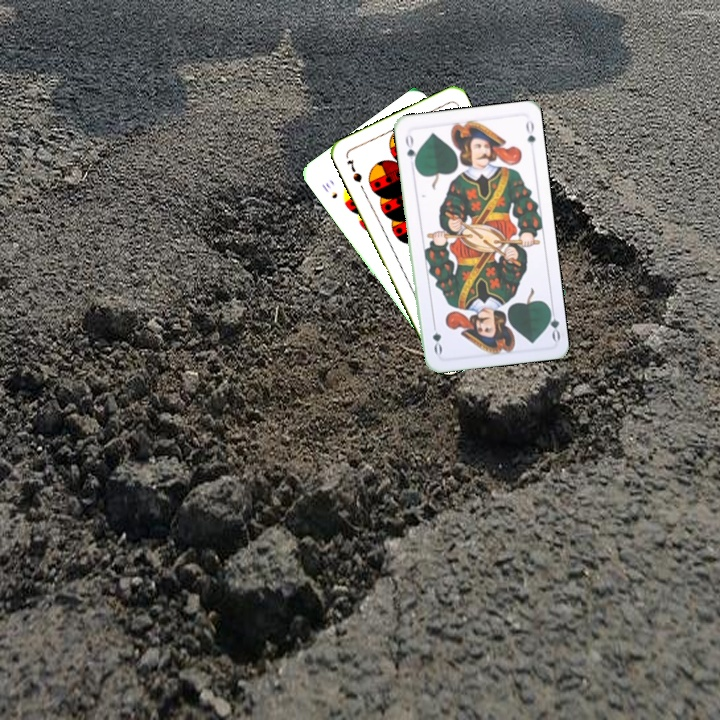GO: (542, 302, 563, 343), (401, 129, 420, 170)
S10: (318, 178, 340, 201)
S7: (343, 155, 365, 185)
